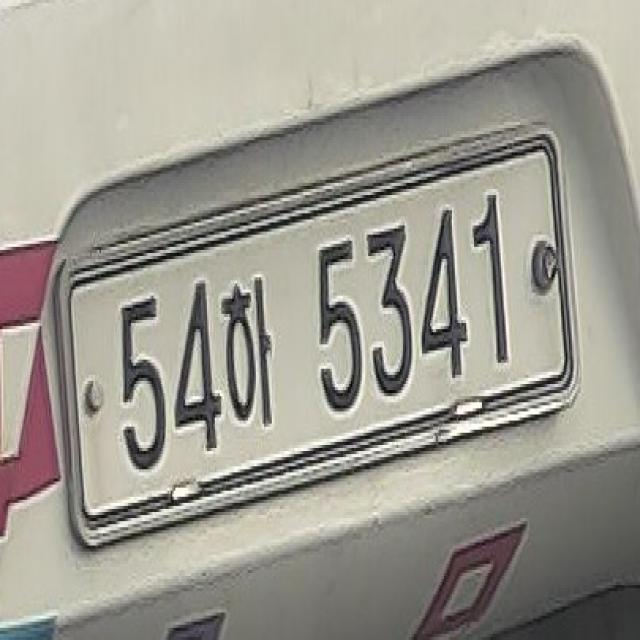1: (474, 168, 518, 366)
3: (365, 220, 422, 408)
4: (414, 192, 469, 402), (163, 274, 221, 451)
5: (116, 286, 172, 478), (314, 228, 366, 430)
ha: (218, 256, 286, 436)
license_plate: (57, 137, 578, 552)
